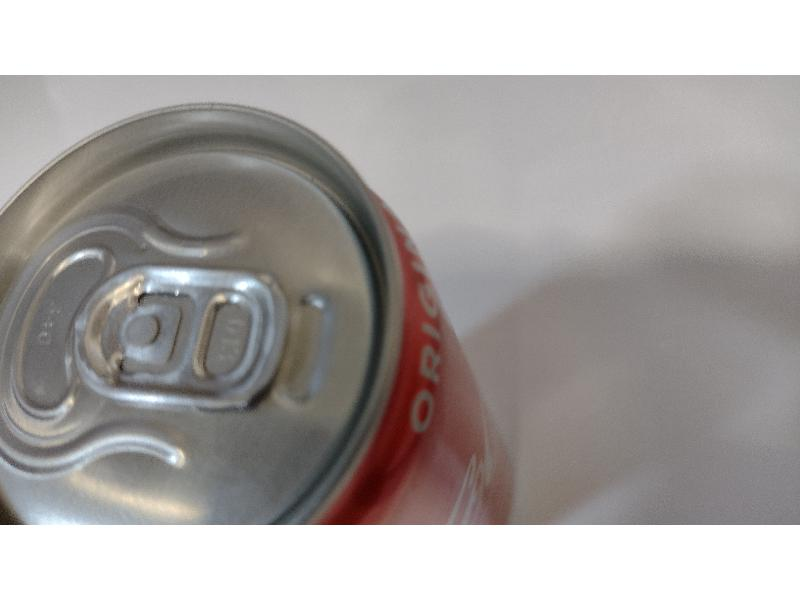can: (2, 102, 511, 523)
